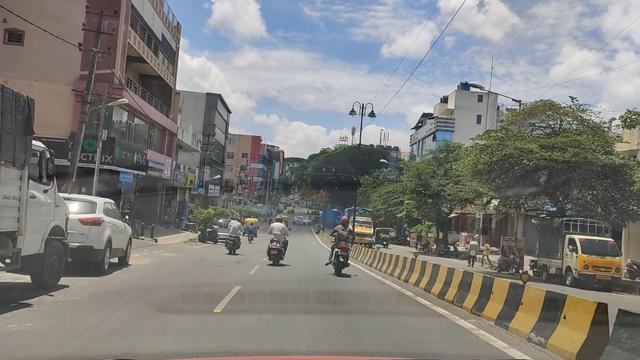HMV: (0, 85, 76, 297)
LMV: (325, 216, 361, 284), (263, 216, 288, 272), (228, 213, 244, 259)
